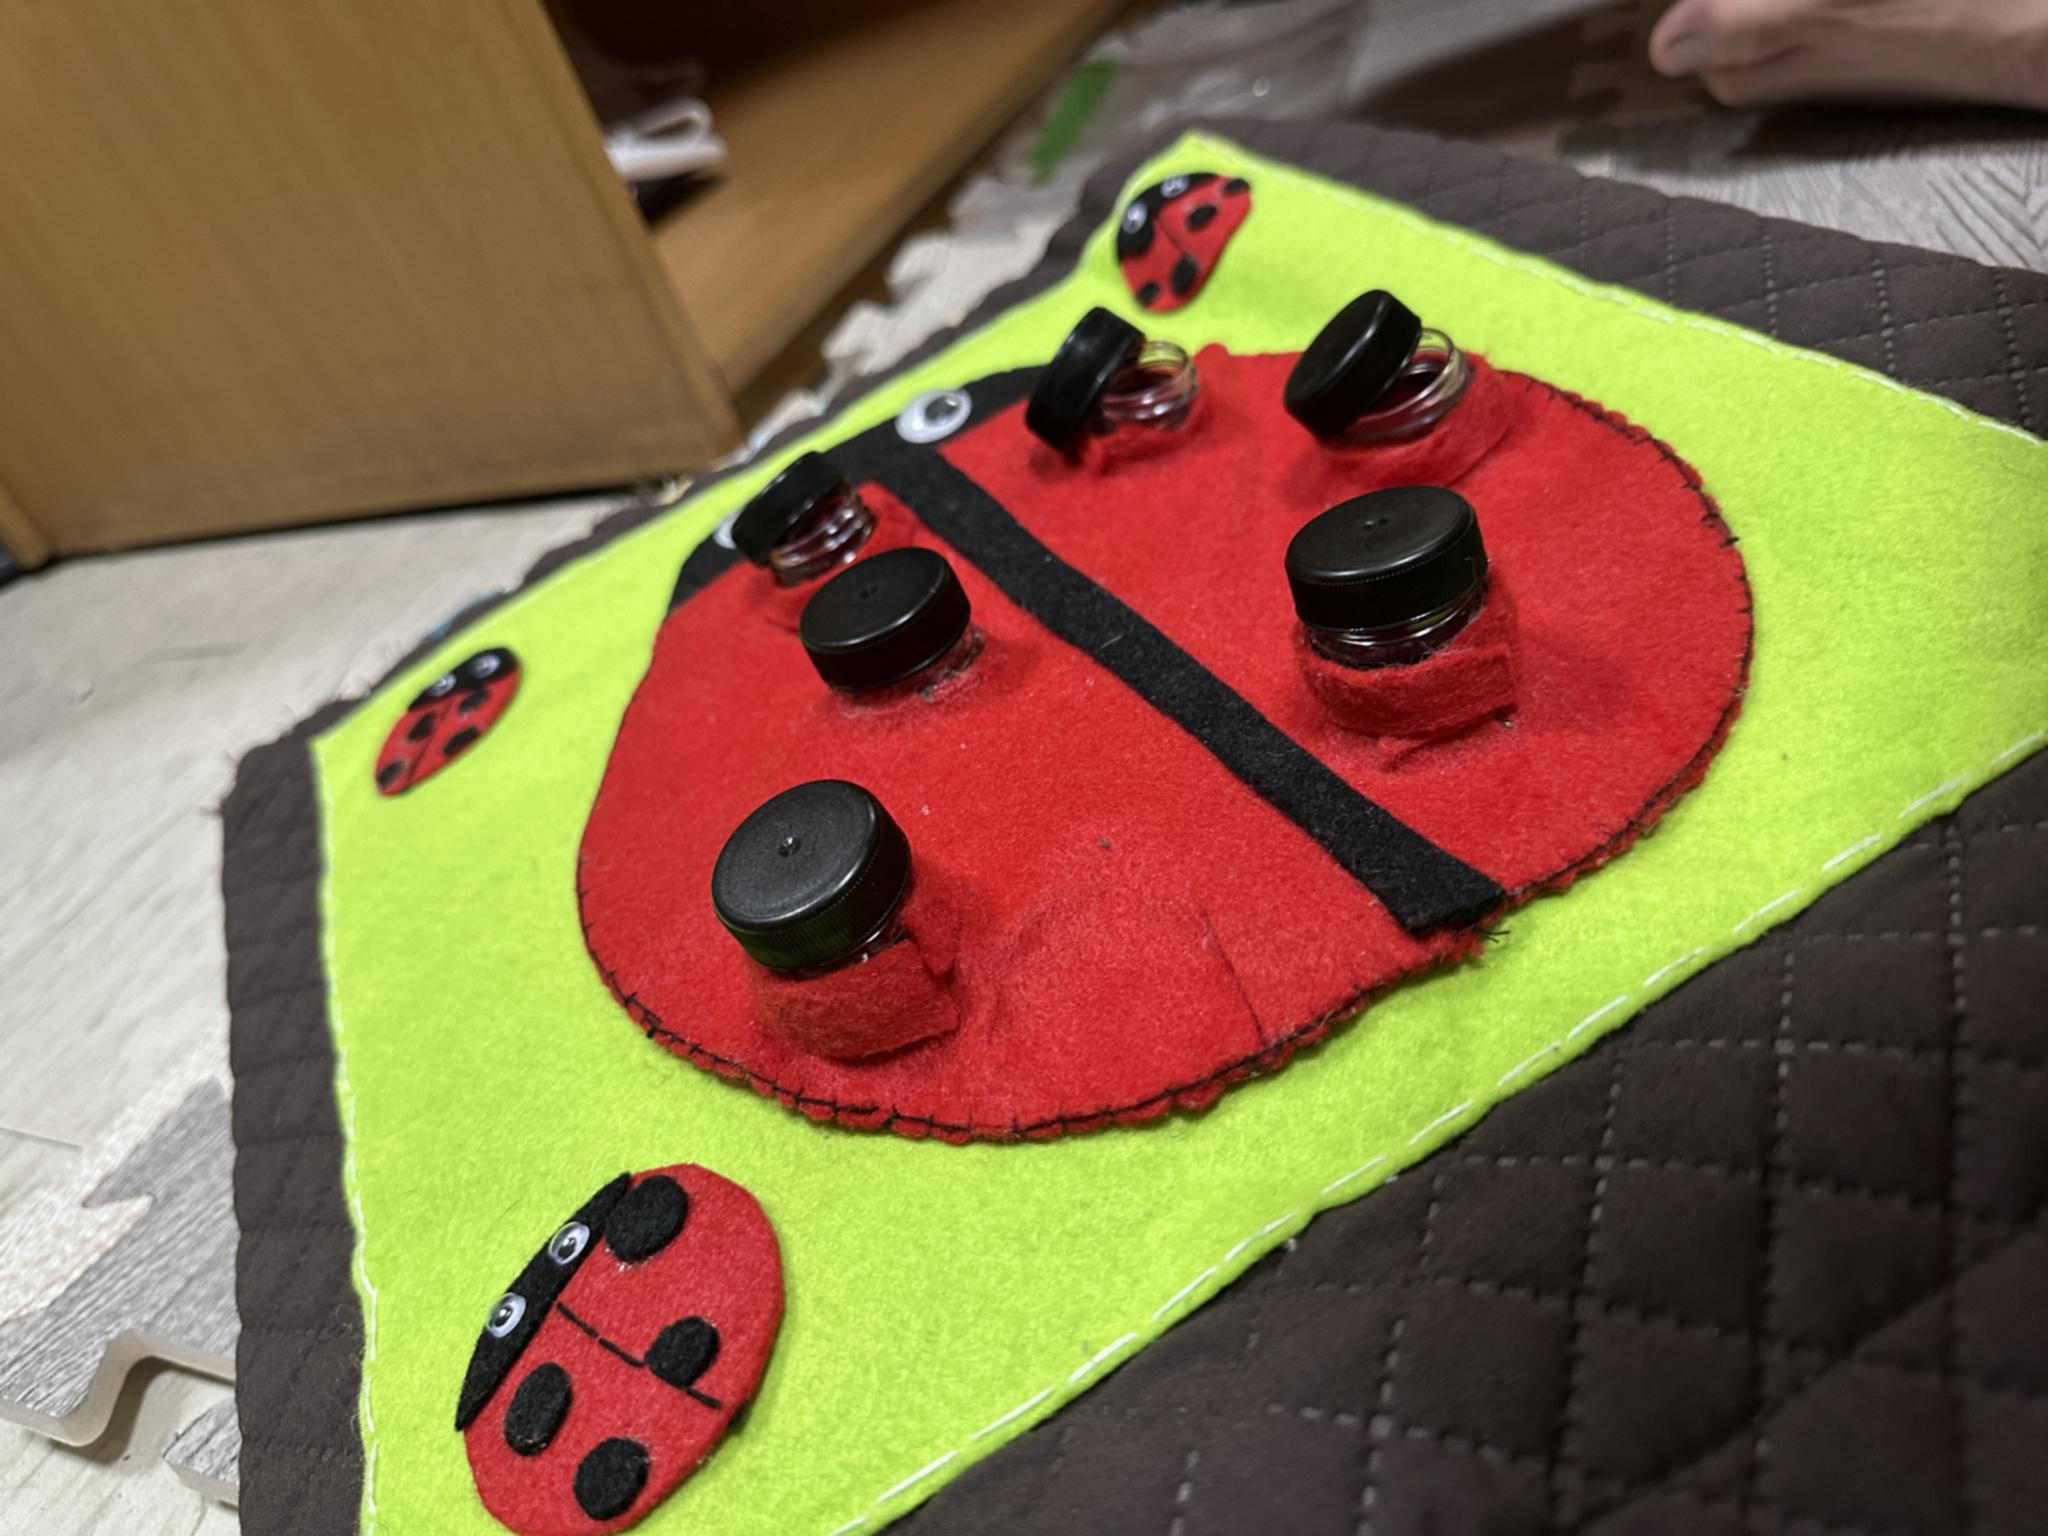cap_ng: (1279, 476, 1517, 752), (1247, 286, 1485, 484), (1001, 290, 1213, 502), (719, 434, 887, 597)
cap_ok: (701, 752, 1001, 1076), (792, 539, 1005, 729)
